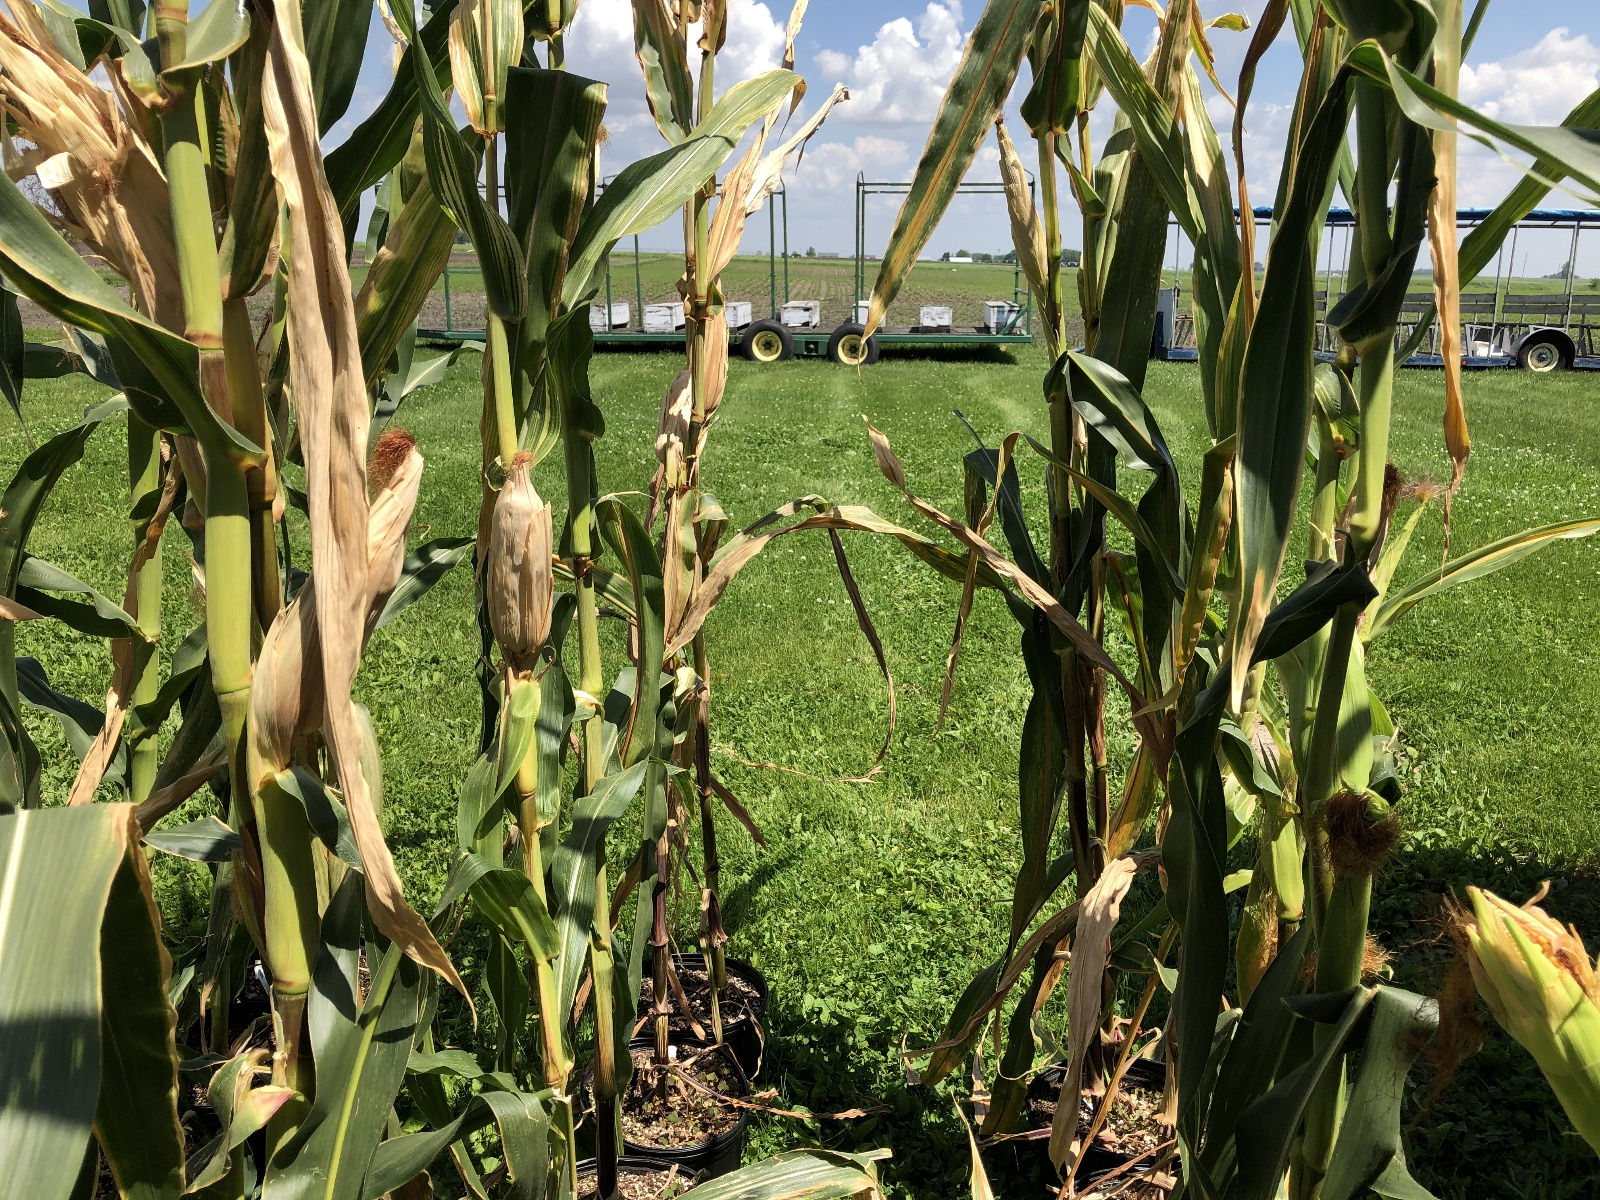ear: (238, 425, 430, 763), (1437, 867, 1600, 1118), (479, 449, 558, 666), (985, 105, 1056, 304)
